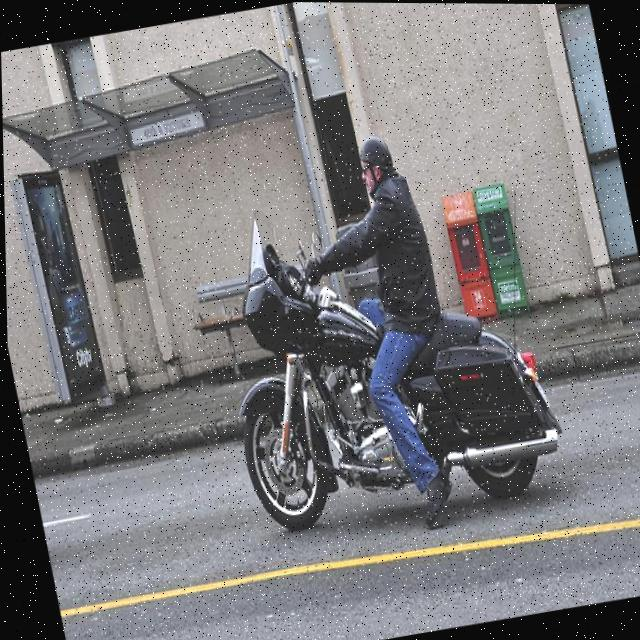motorcycle: (189, 167, 580, 564)
